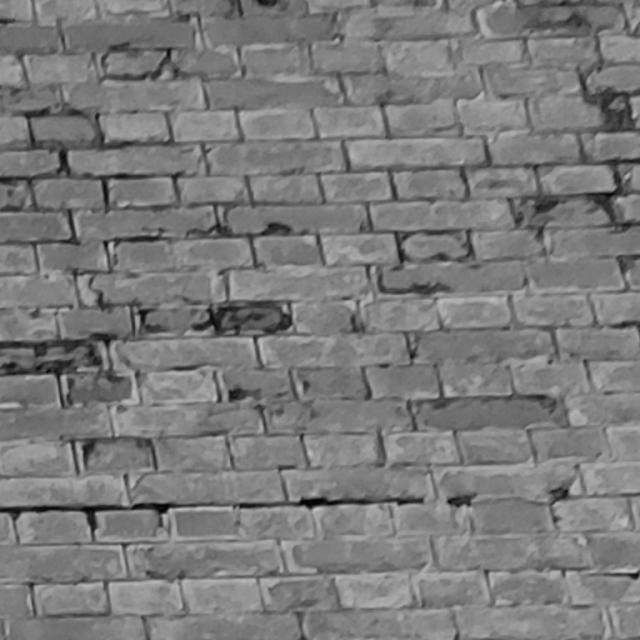crack: (1, 496, 423, 532)
